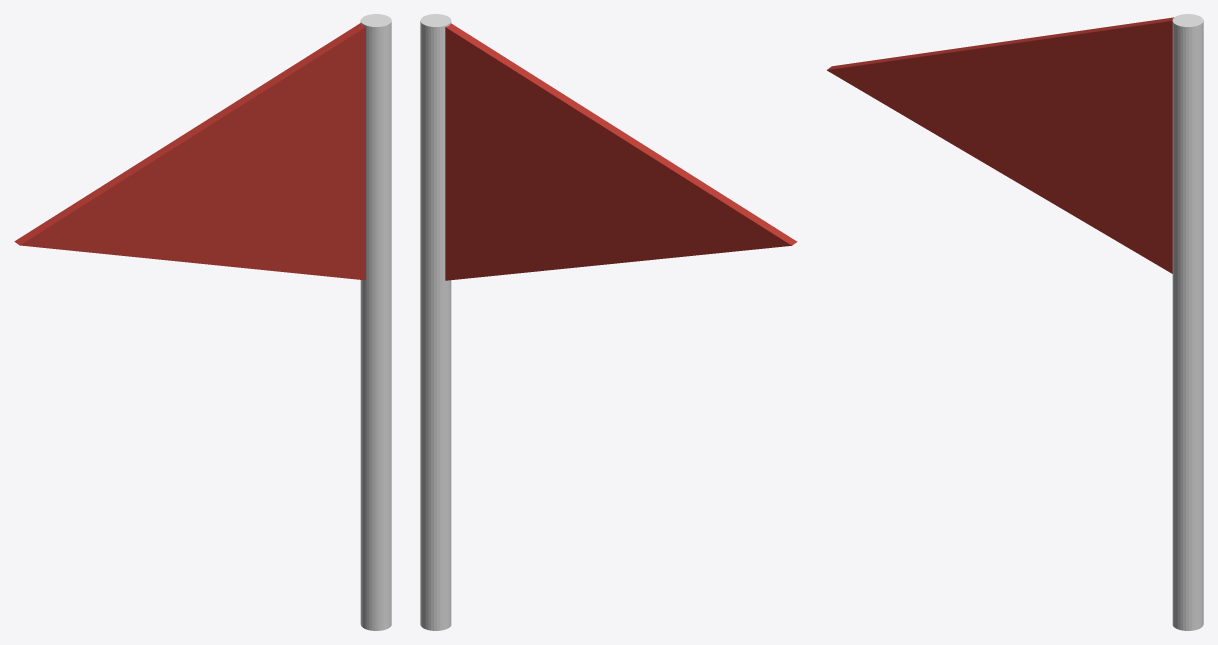
File: Флажок.fbx
3 renders of one model, left to right at view 1: azimuth 30°, elevation 25°; view 2: azimuth 150°, elevation 25°; view 3: azimuth 330°, elevation 25°, orthographic.
Parts seen in each view (by area): view 1: Флажок; view 2: Флажок; view 3: Флажок.
Part boxes in pixels (left/top/right/bottom): Флажок: left=14, top=14, right=391, bottom=630; Флажок: left=420, top=14, right=797, bottom=630; Флажок: left=827, top=14, right=1203, bottom=630.
Size of the model in its own units: 146 by 226 by 10.54.
